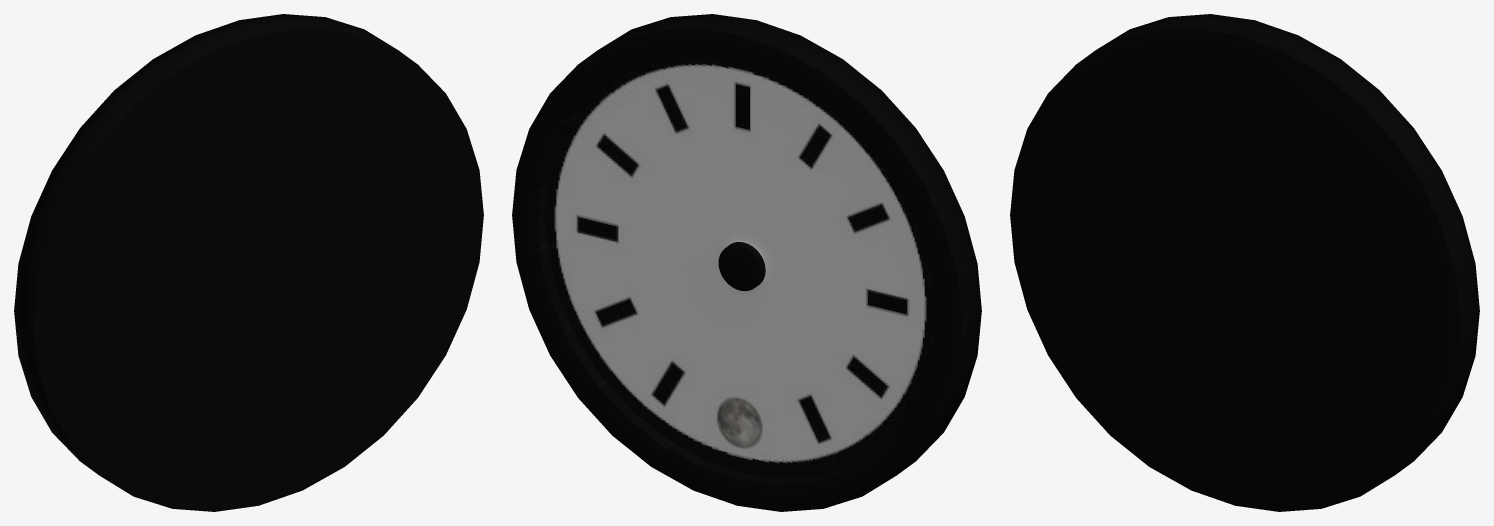
The model's file is clock.fbx.
The picture shows the model from 3 angles, left to right: view 1: azimuth 30°, elevation 25°; view 2: azimuth 150°, elevation 25°; view 3: azimuth 330°, elevation 25°; orthographic projection.
Parts seen in each view (by area): view 1: Cylinder; view 2: Cylinder; view 3: Cylinder.
Boxes of the visible parts, x1=… form: Cylinder: x1=14, y1=14, x2=483, y2=511; Cylinder: x1=512, y1=14, x2=981, y2=511; Cylinder: x1=1010, y1=14, x2=1479, y2=511.
Size of the model in its own units: 260 by 260 by 20.08.
1 material, 1 textured.
